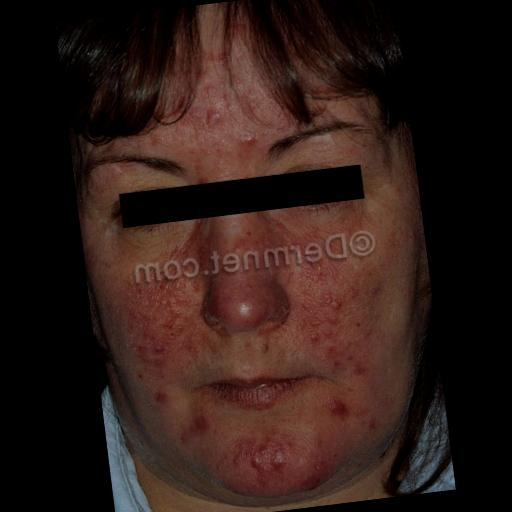Skin_Lesion: (124, 272, 173, 378), (247, 434, 291, 488), (178, 241, 210, 298), (179, 402, 211, 448), (296, 460, 334, 497), (300, 334, 354, 360), (328, 388, 352, 426), (294, 306, 319, 337), (327, 292, 352, 320), (238, 131, 260, 159), (361, 415, 384, 437), (238, 229, 250, 244)
